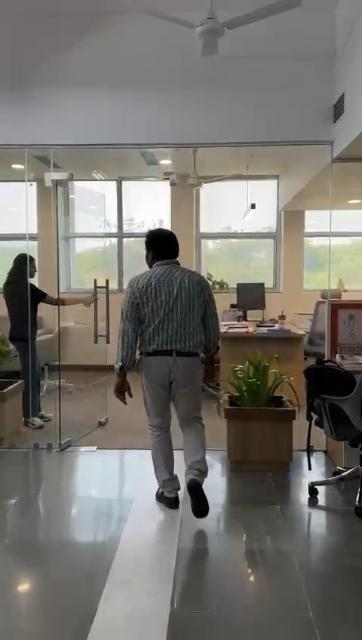floor: (2, 410, 362, 640)
moving-obj: (76, 218, 281, 534), (0, 222, 94, 444)
object: (300, 346, 362, 520), (224, 351, 286, 502), (231, 278, 275, 336)
wall: (281, 147, 309, 321), (34, 184, 60, 290)
